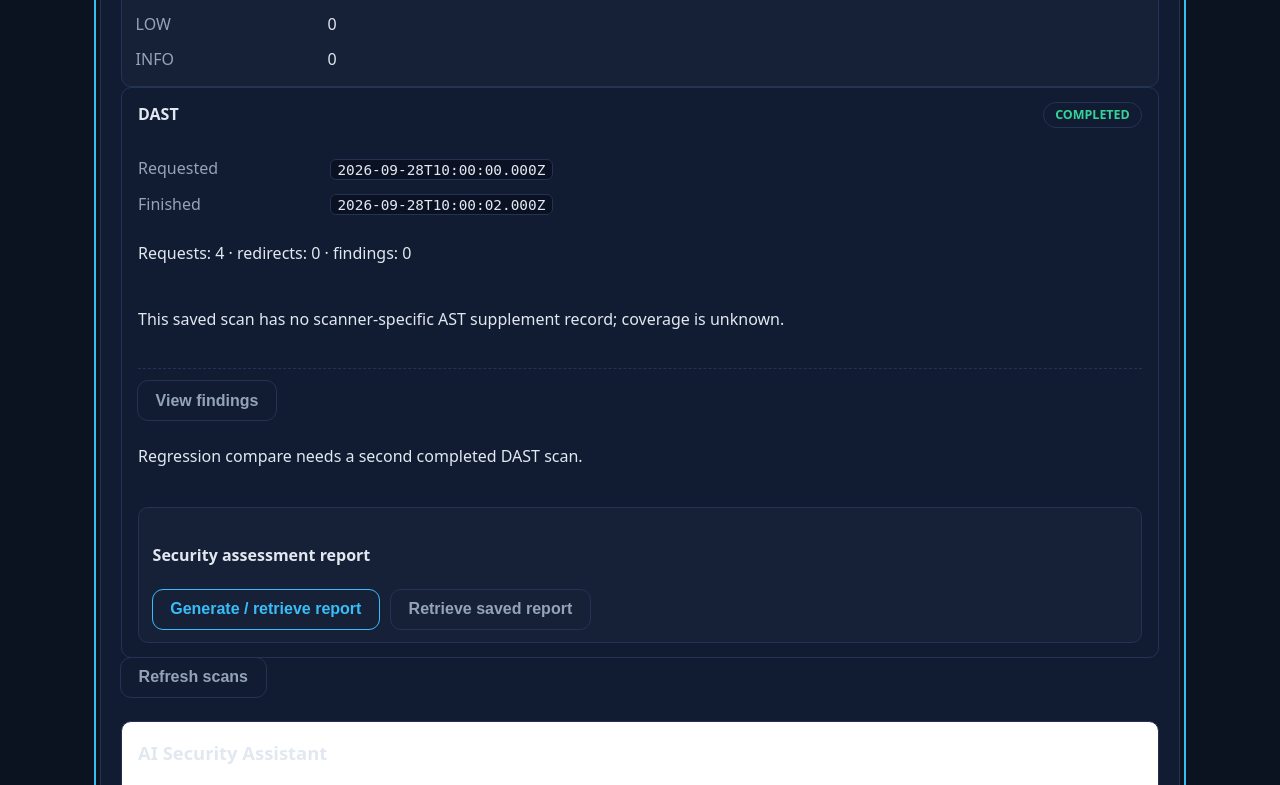
passive DAST project UI › active DAST discloses crawl, injection and API-specification coverage
(page scrolled)
Click the button with test id "view-findings" at (207, 401), box [138,381,276,420]
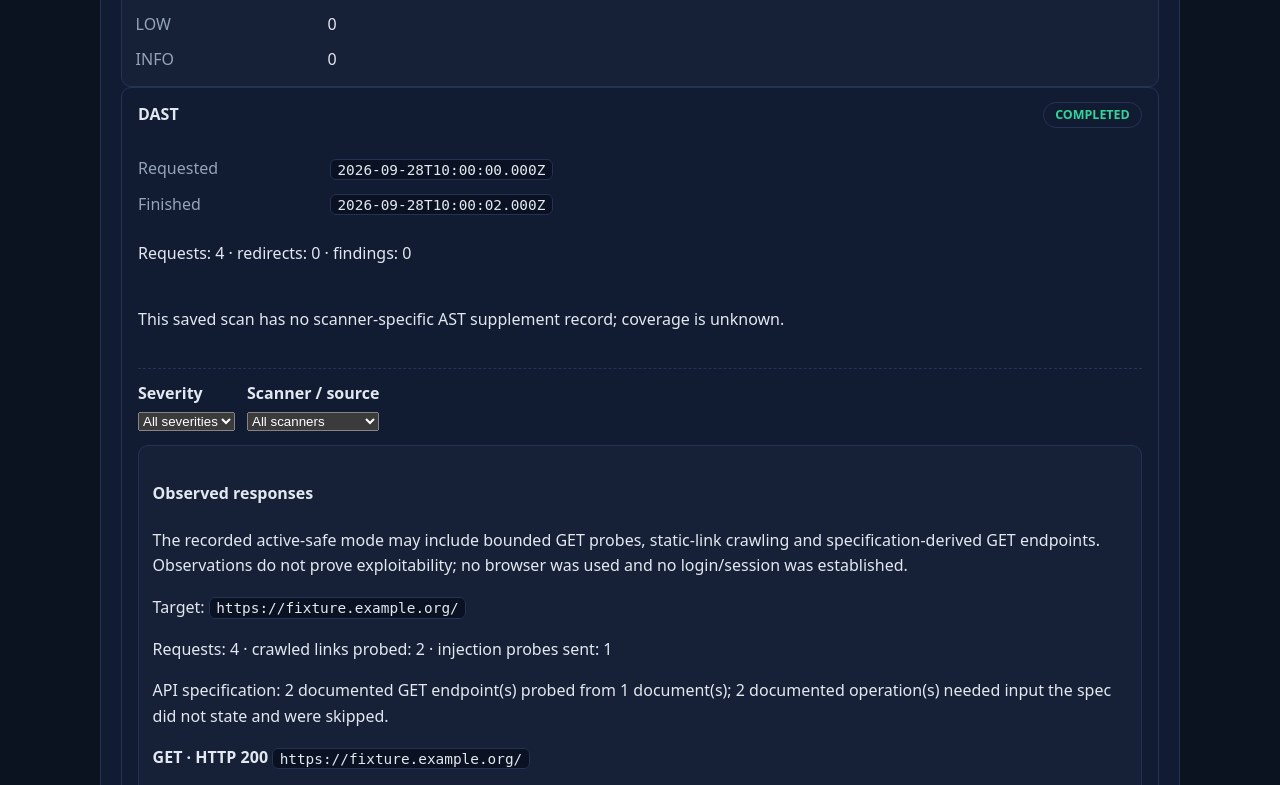
Now the text with test id "dast-active-counts" shows "injection probes sent: 1", box [153,638,612,660]
Now the text with test id "dast-openapi" shows "2 documented GET endpoint(s)", box [153,679,1111,727]
Now the text with test id "dast-openapi" shows "2 documented operation(s) needed input the spec did not state", box [153,679,1111,727]
